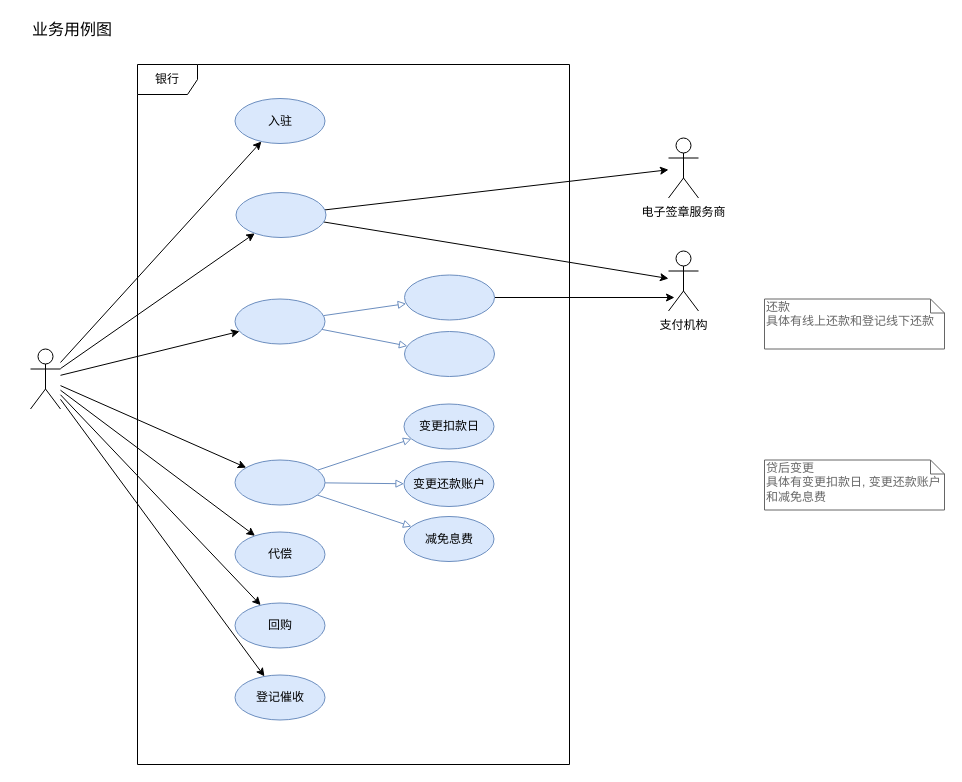
Image size: 962x782. Some labels were removed from this diagram. The shapes that lost their labels are listed below. From the top down, each one's centre as x and y in pixels, then its label:
At (280,215): "申请贷款".
At (449,297): "线上还款".
At (279,321): "还款".
At (449,353): "登记线下还款".
At (45,378): "合作机构 (贷款平台)".
At (279,482): "贷后变更".
